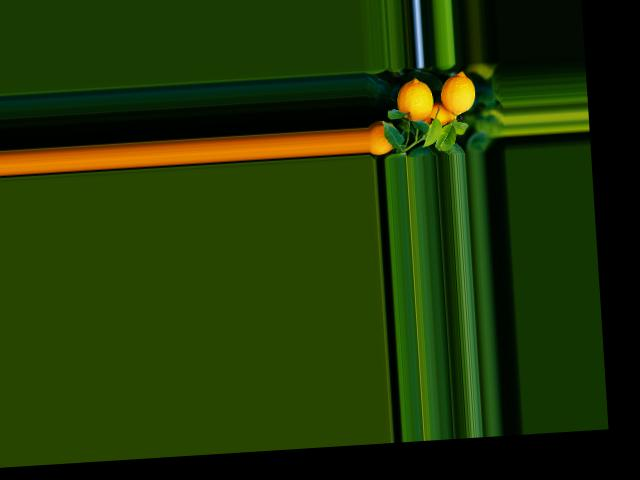lemon: (441, 72, 476, 117)
